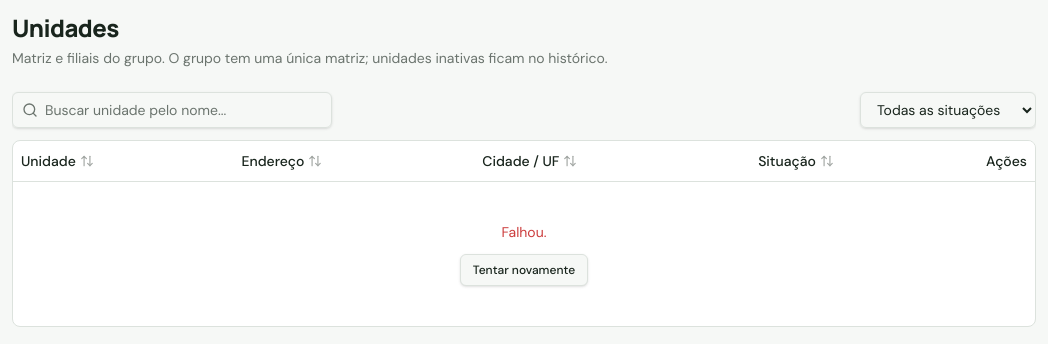
Test: UnidadesPage › erro do backend aparece com Tentar novamente, que refaz o GET
Expected: the text "Falhou." is shown, [502,222,546,240]
Click the button "Tentar novamente" at (524, 270), box [460,254,588,286]
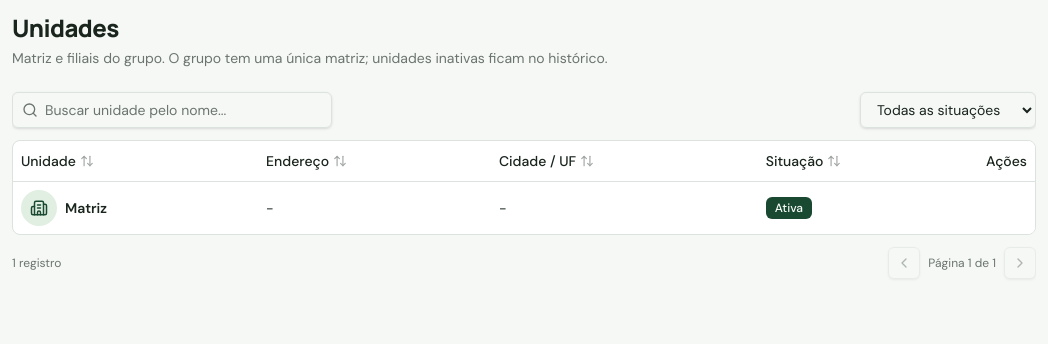
Result: the text "Matriz" is shown at [21,190,107,226]
